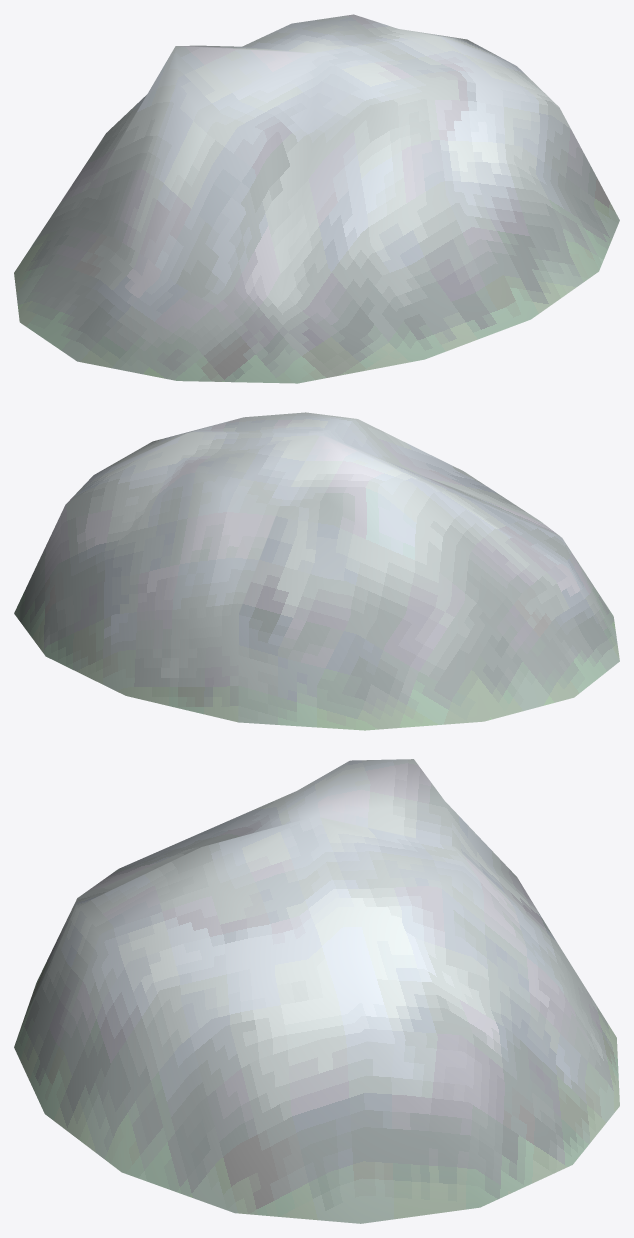
File: TROLLHOLE02_STONEA001.fbx
3 renders of one model, top to bottom at view 1: azimuth 30°, elevation 25°; view 2: azimuth 150°, elevation 25°; view 3: azimuth 270°, elevation 25°, orthographic. The views are drawn at different scales.
Visible parts, largest first — view 1: TROLLHOLE02_STONEA001; view 2: TROLLHOLE02_STONEA001; view 3: TROLLHOLE02_STONEA001.
Part boxes in pixels (x1,y1,x2,y2): TROLLHOLE02_STONEA001: [14, 14, 619, 383]; TROLLHOLE02_STONEA001: [14, 412, 619, 730]; TROLLHOLE02_STONEA001: [14, 759, 619, 1223].
Bounding box in the file's own units: 17451 × 6088 × 13593.
Materials: 1 (1 with a texture image).
